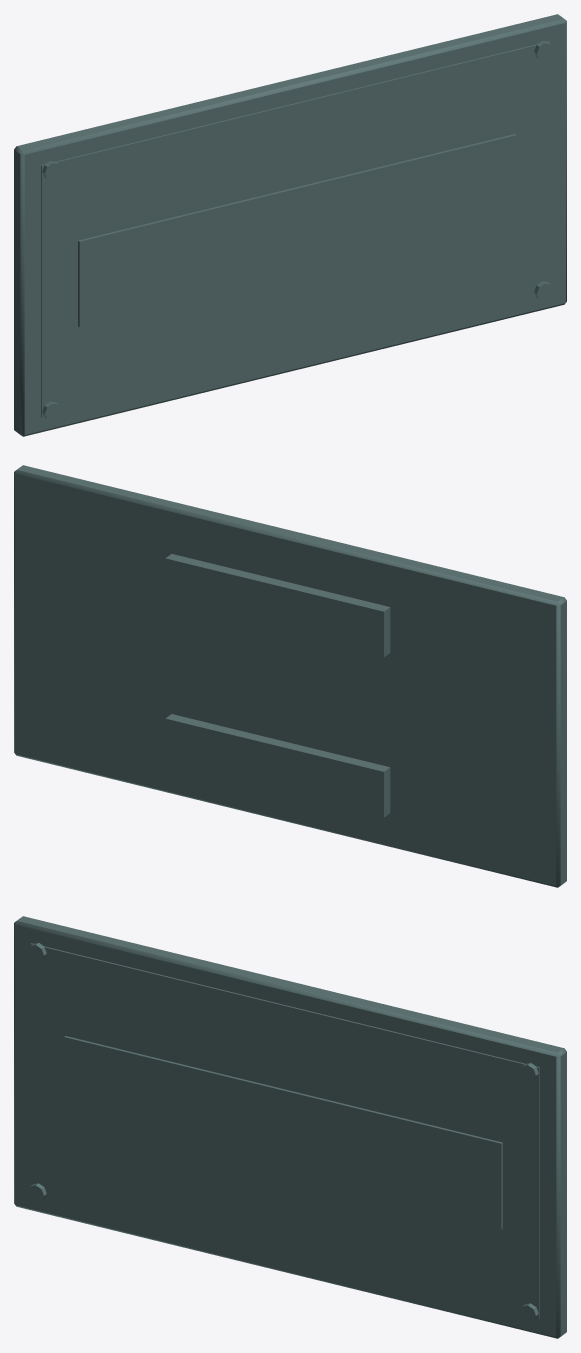
The model's file is OBJ-062B_PlacaSujeto.fbx.
3 views of the same model, one above another, from view 1: azimuth 30°, elevation 25°; view 2: azimuth 150°, elevation 25°; view 3: azimuth 330°, elevation 25° (orthographic).
Parts seen in each view (by area): view 1: GEO-OBJ-062B_PlacaSujeto.001; view 2: GEO-OBJ-062B_PlacaSujeto.001; view 3: GEO-OBJ-062B_PlacaSujeto.001.
Boxes of the visible parts, left/top/right/bottom form: GEO-OBJ-062B_PlacaSujeto.001: left=14, top=14, right=566, bottom=436; GEO-OBJ-062B_PlacaSujeto.001: left=14, top=465, right=566, bottom=887; GEO-OBJ-062B_PlacaSujeto.001: left=14, top=916, right=566, bottom=1338.
Size of the model in its own units: 0.2 by 0.1 by 0.0155.
